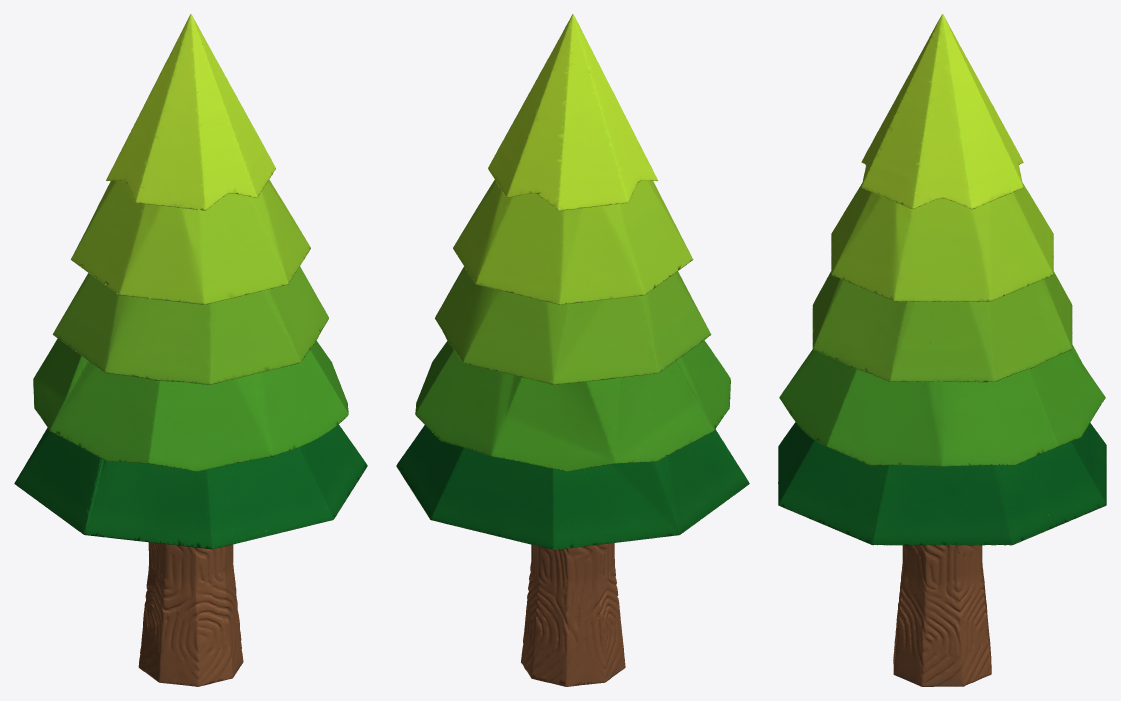
The model's file is MSB-Tree.glb.
3 renders of one model, left to right at view 1: azimuth 30°, elevation 25°; view 2: azimuth 150°, elevation 25°; view 3: azimuth 270°, elevation 25°, orthographic.
Bounding box in the file's own units: 0.8668 × 1.9 × 0.8669.
Materials: 1 (1 with a texture image).
